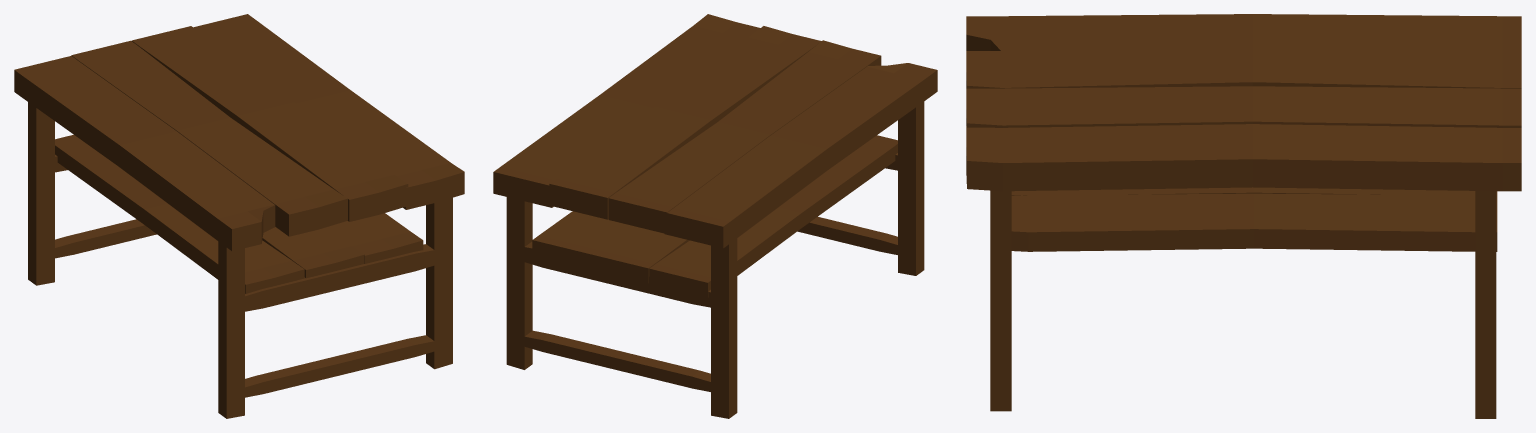
File: Work table.fbx
3 views of the same model, side by side, from view 1: azimuth 30°, elevation 25°; view 2: azimuth 150°, elevation 25°; view 3: azimuth 270°, elevation 25° (orthographic). The views are drawn at different scales.
Parts seen in each view (by area): view 1: Work Table; view 2: Work Table; view 3: Work Table.
Boxes of the visible parts, left/top/right/bottom form: Work Table: left=14, top=14, right=464, bottom=418; Work Table: left=493, top=14, right=937, bottom=418; Work Table: left=966, top=14, right=1521, bottom=418.
Size of the model in its own units: 425 by 360 by 687.
